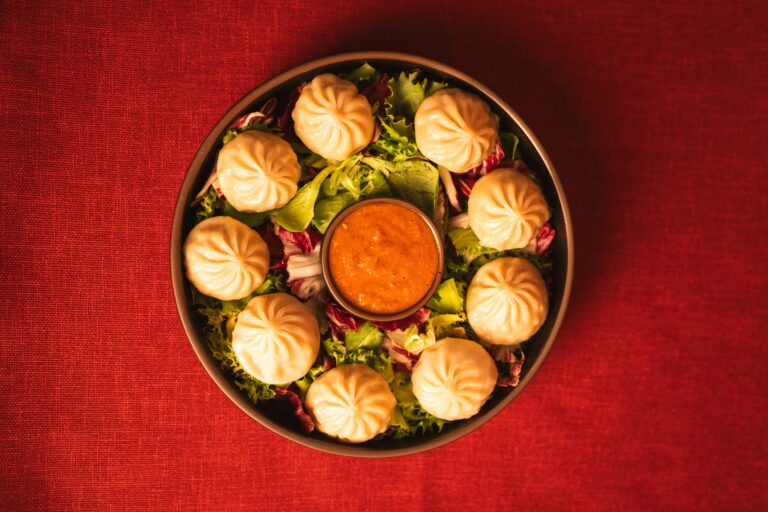momo: (226, 293, 320, 386), (407, 335, 495, 420), (414, 86, 496, 175), (293, 74, 376, 161), (472, 252, 545, 348), (215, 129, 299, 211), (189, 215, 268, 299), (312, 364, 398, 440), (469, 170, 550, 250)
